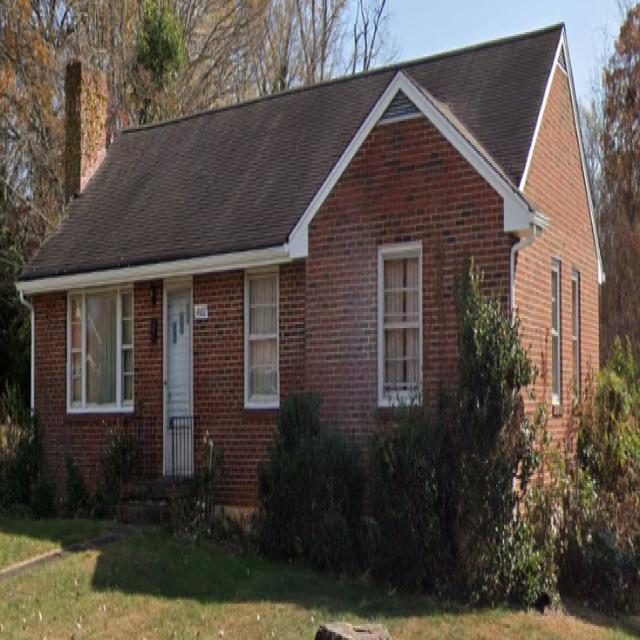House: (14, 20, 607, 589)
